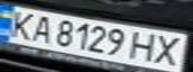1: (69, 20, 93, 52)
2: (87, 22, 109, 55)
8: (51, 17, 75, 48)
9: (106, 26, 130, 59)
A: (24, 14, 57, 44)
H: (127, 29, 163, 63)
K: (0, 8, 42, 39)
X: (151, 34, 190, 68)
